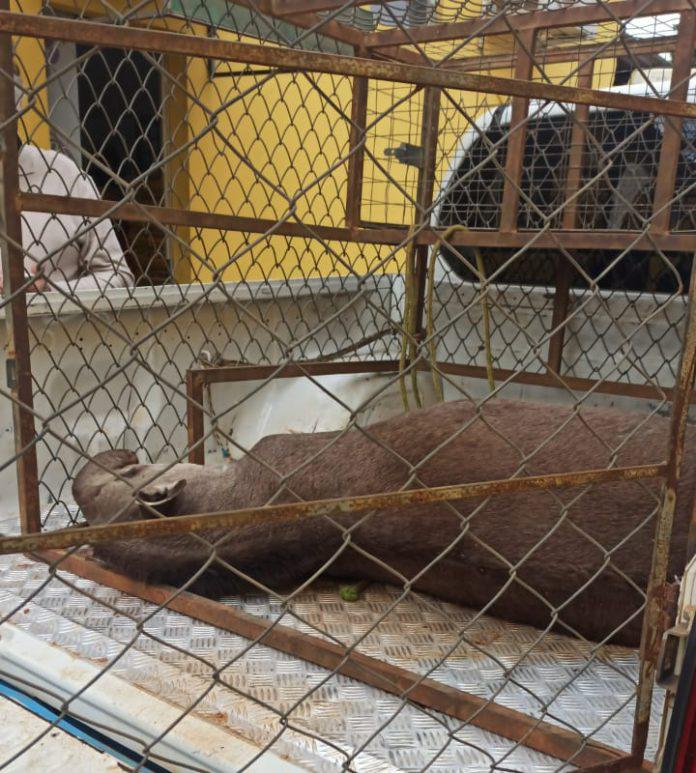Anta: (61, 404, 663, 600)
